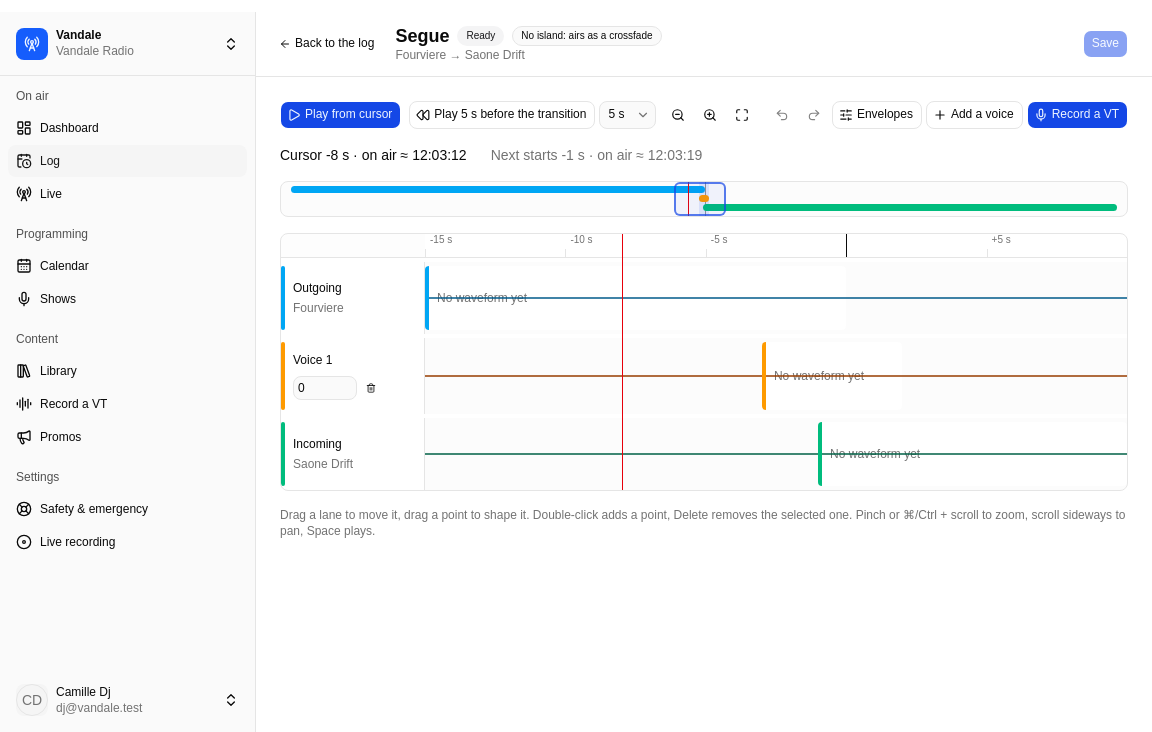
Scenario: segue editor › says why a save failed
The image size is (1152, 732).
Expected: the text "Voice 1" is shown, [293, 353, 332, 367]
Click the button "Envelopes" at (877, 115), box [832, 101, 922, 129]
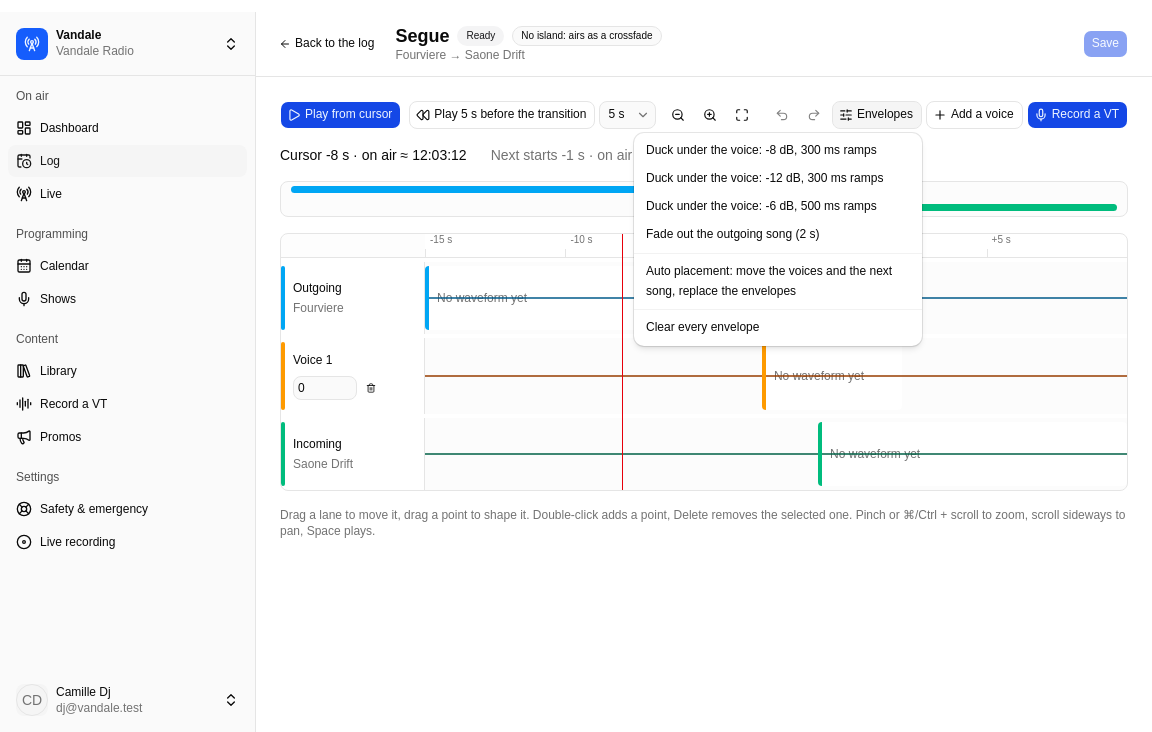
Click the menu item "Fade out the outgoing song (2 s)" at (733, 234), box [646, 227, 820, 241]
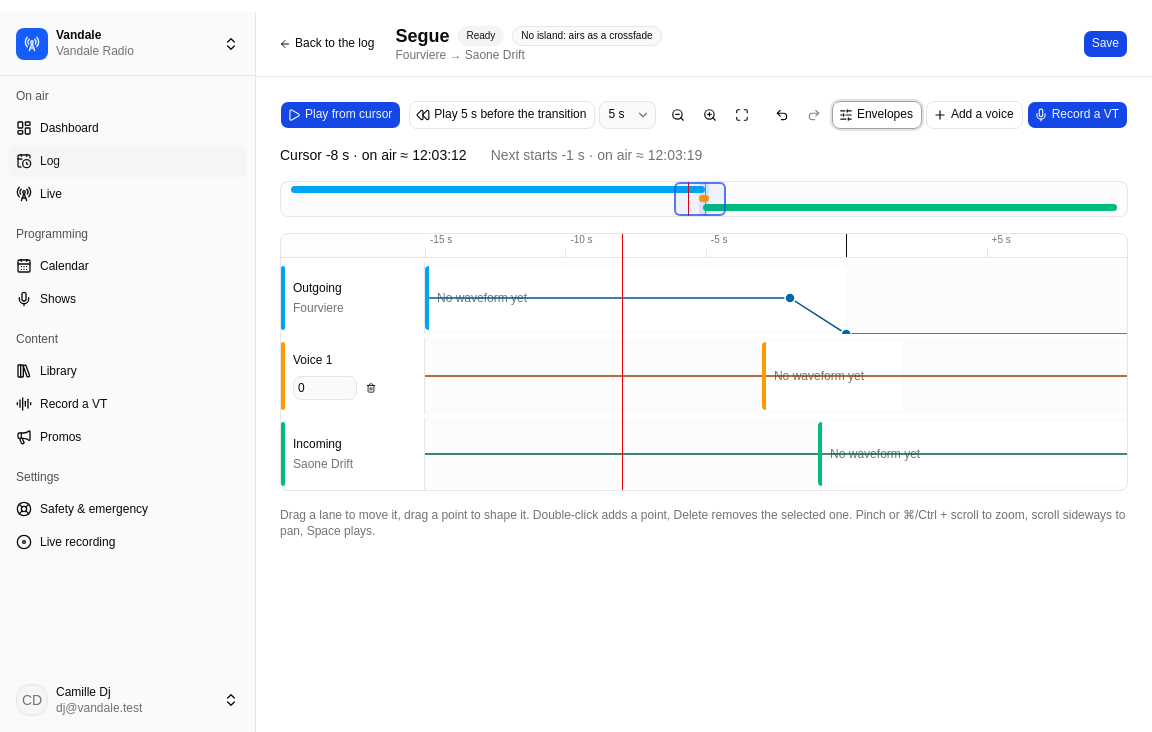
Click the button "Save" at (1105, 44), box [1083, 30, 1128, 58]
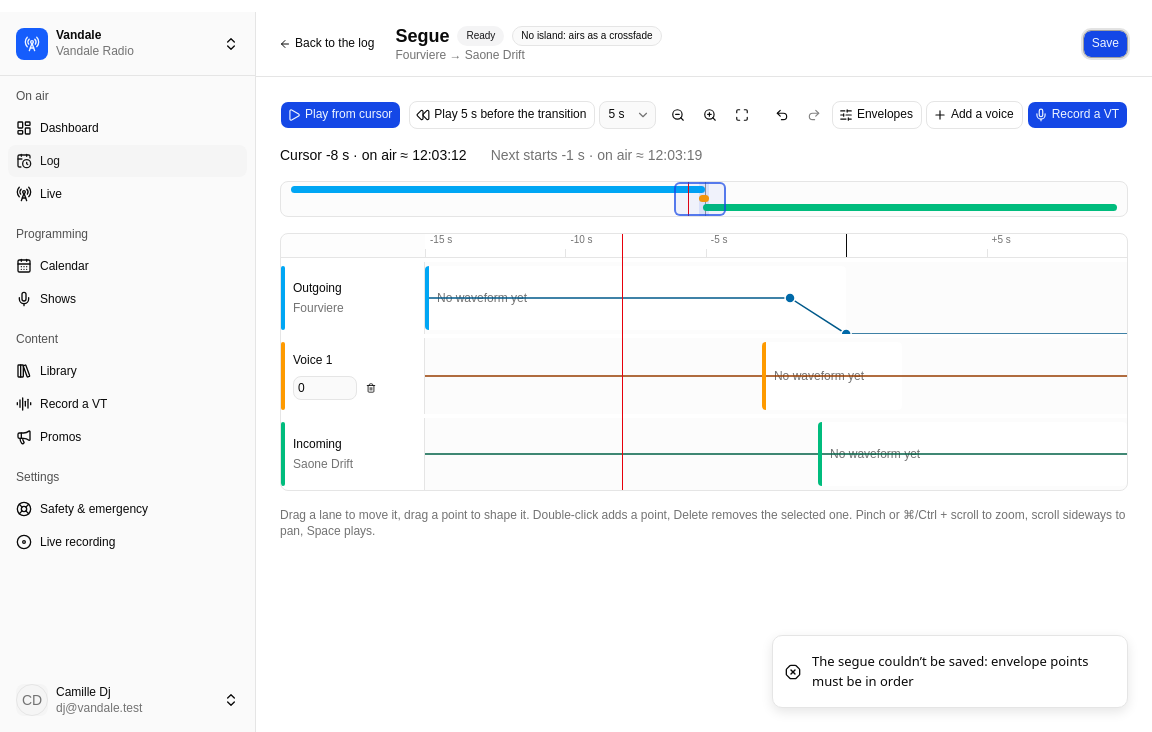
Now the button "Save" is enabled, box [1083, 30, 1128, 58]
Now the text "The segue couldn’t be saved: " is shown, box [812, 652, 1088, 690]
